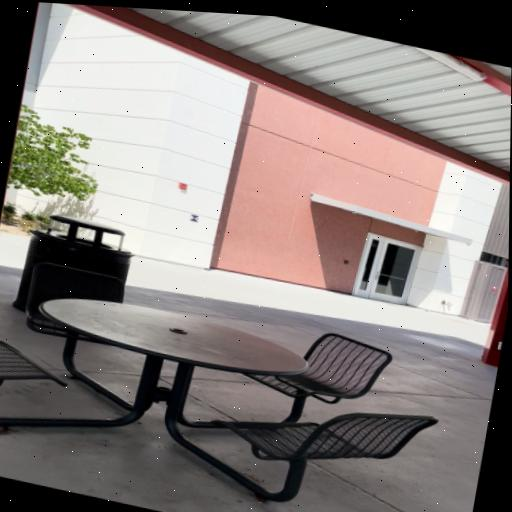target2: (189, 213, 200, 223)
